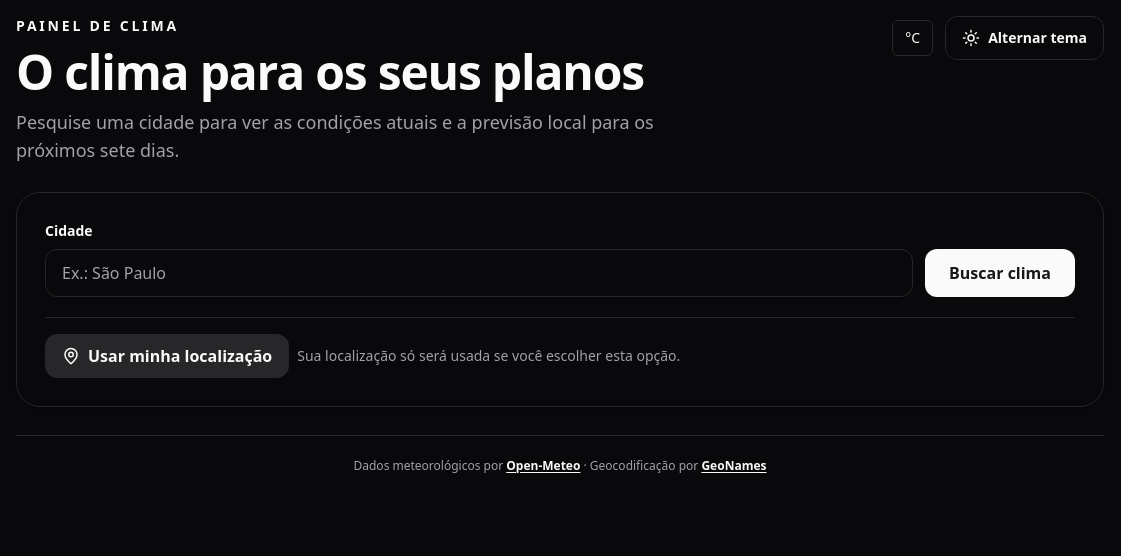
Test: WeatherView city search › explains an empty search result and leaves the city field available
Type "Zzqville" into the field labelled "Cidade".
click(479, 273); type("Zzqville")  # box [45,249,913,297]
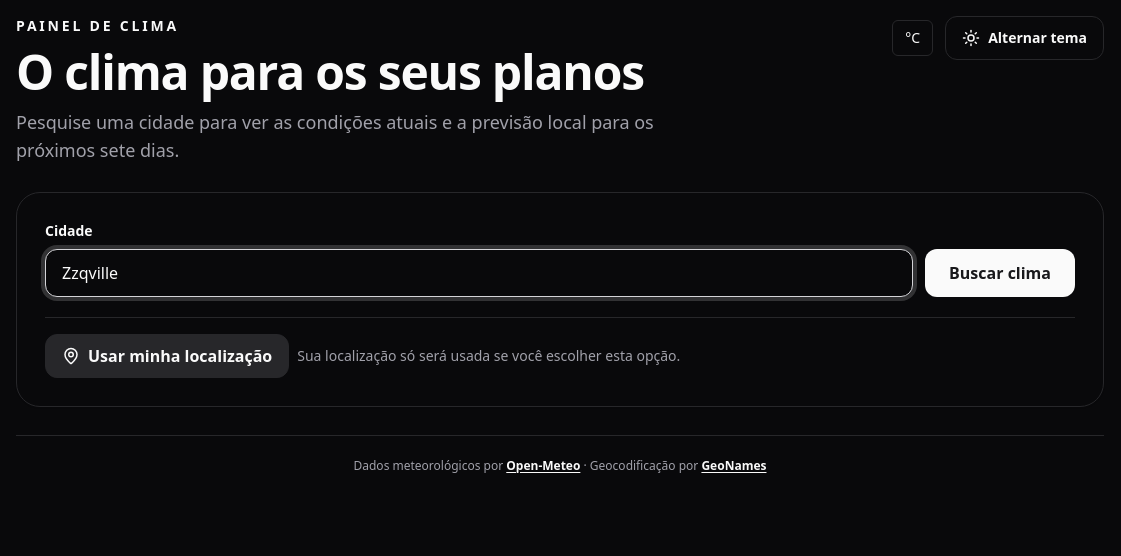
Press Enter
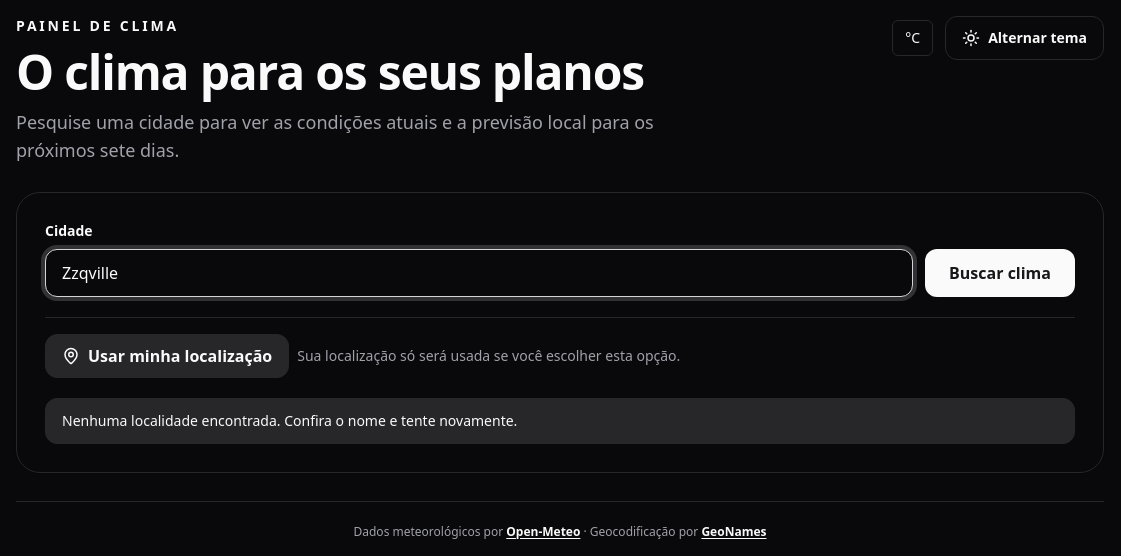
expect the field labelled "Cidade" is enabled: met, box [45,249,913,297]
expect the message shows "Nenhuma localidade encontrada": met, box [62,411,517,430]
